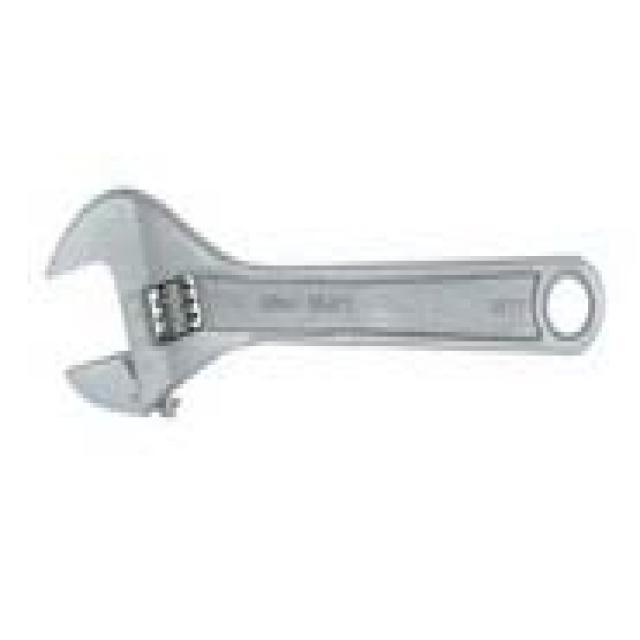wrench: (44, 176, 610, 420)
